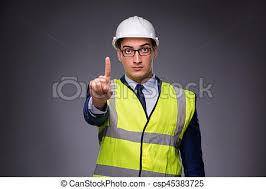Person_wearing_helmet: (110, 11, 161, 57)
